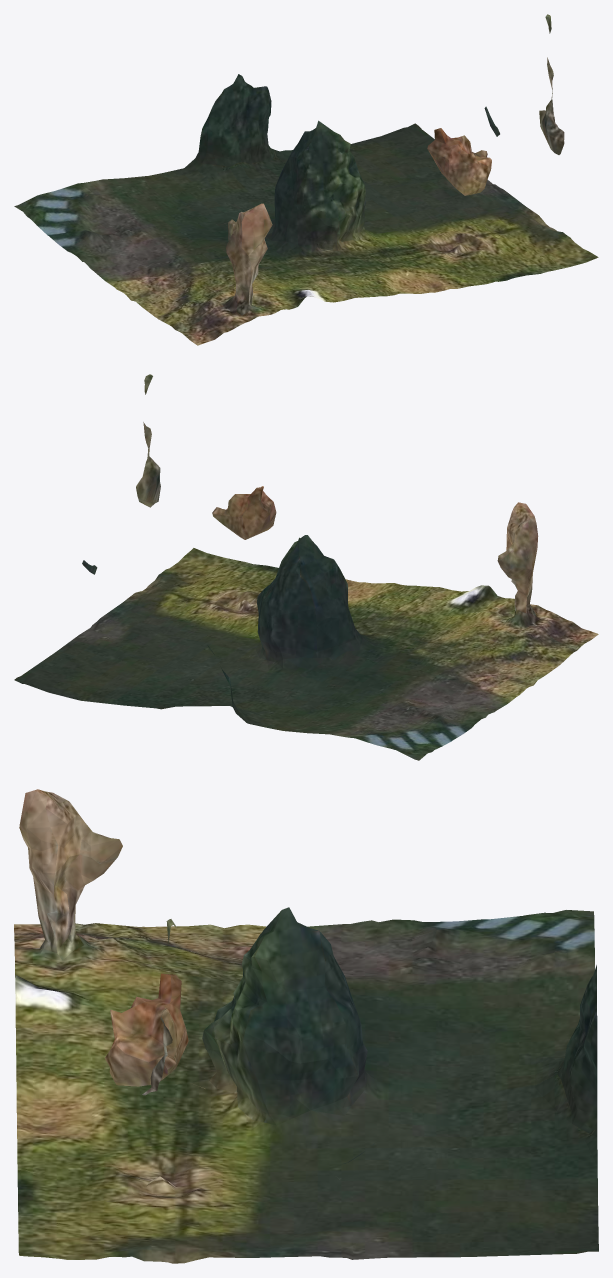
Rendered from Tile_+006_+007_L22_0003120.glb.
3 views of the same model, one above another, from view 1: azimuth 30°, elevation 25°; view 2: azimuth 150°, elevation 25°; view 3: azimuth 270°, elevation 25° (orthographic). The views are drawn at different scales.
Parts seen in each view (by area): view 1: rtc; view 2: rtc; view 3: rtc.
Boxes of the visible parts, x1,y1,x2,y2 form: rtc: [14, 14, 598, 345]; rtc: [14, 374, 598, 760]; rtc: [14, 789, 598, 1263].
Bounding box in the file's own units: 8.86 × 4.48 × 6.94.
1 material, 1 textured.
